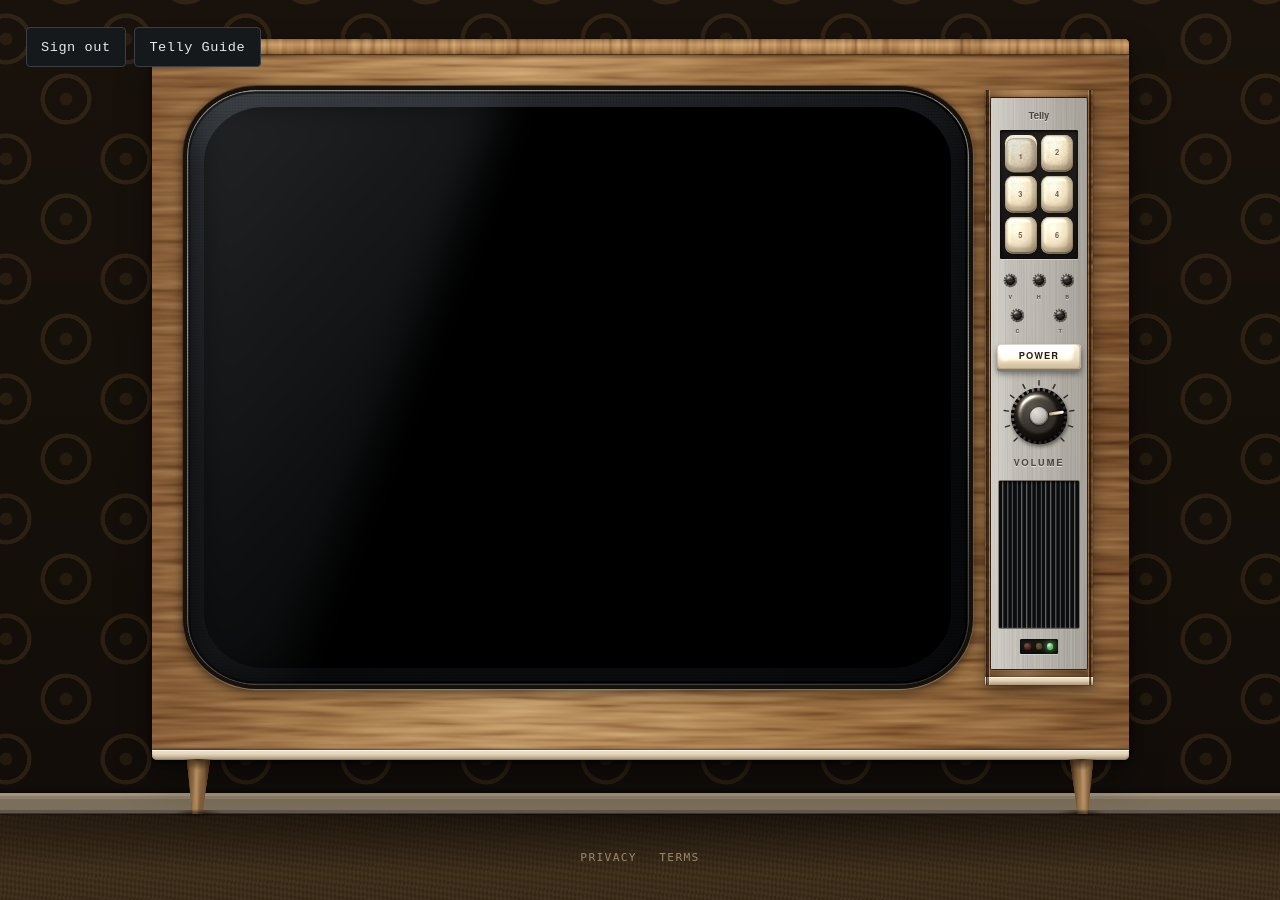
Scenario: Channel › the Google session › says so when signing out fails, rather than swallowing it
The width and height of the screenshot is (1280, 900).
Click the button "Sign out" at (76,47), box [26, 27, 126, 67]
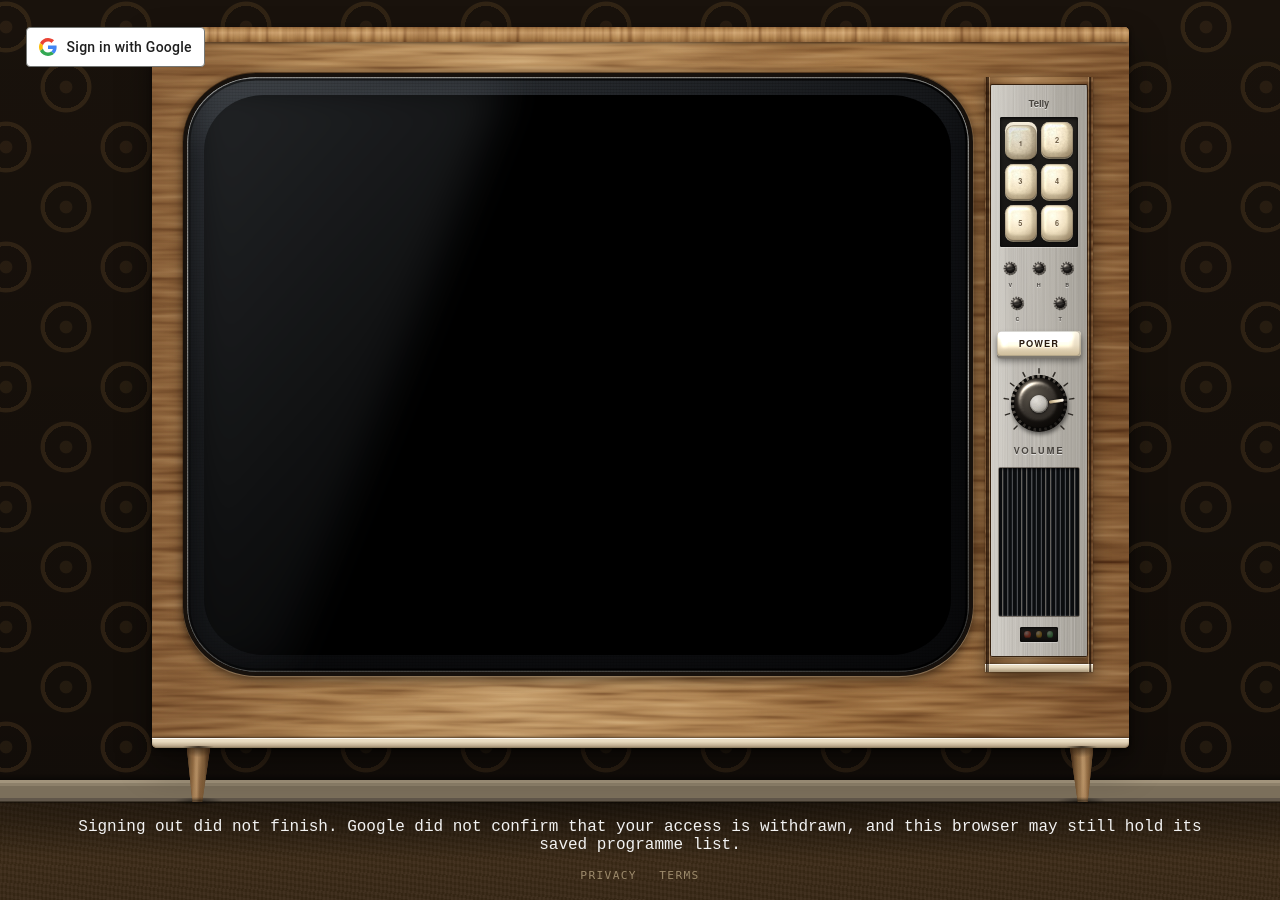
Result: the message is not empty at [64, 818, 1216, 854]
